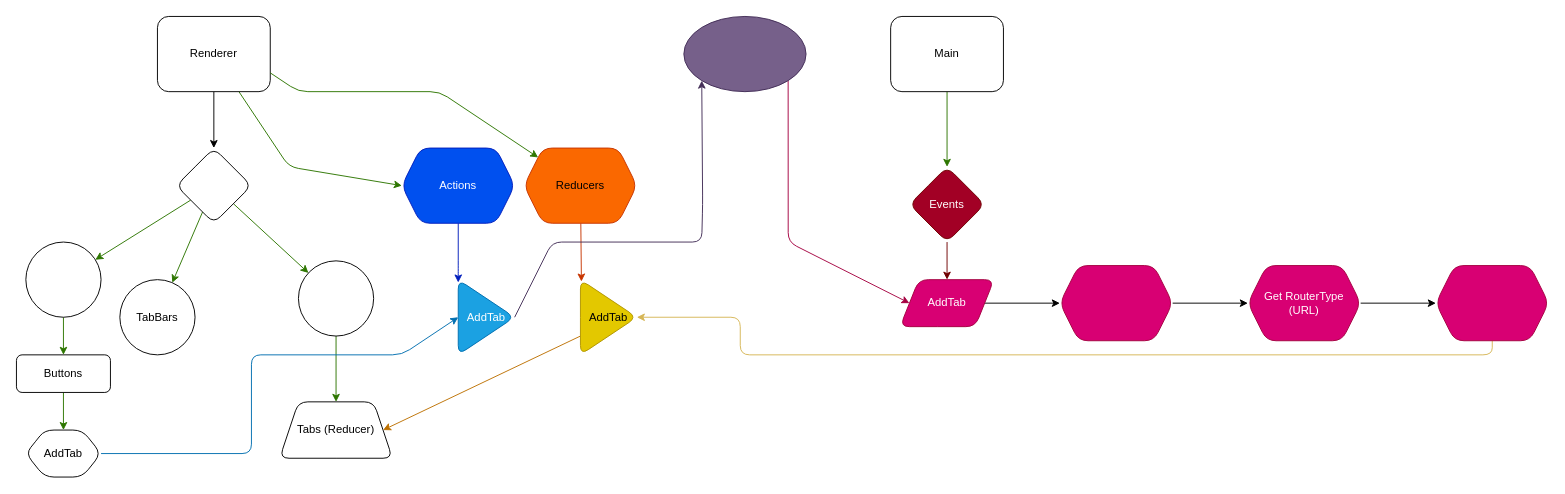
Image size: 1565x494. Some labels were removed from this diagram. The centre of each missing label's shape, as x and y in pixels:
App: [213,185]
Generate Structure: [1116,303]
Preload: [744,54]
RouterManager: [336,298]
Save and Send: [1492,303]
TopBar: [63,279]
